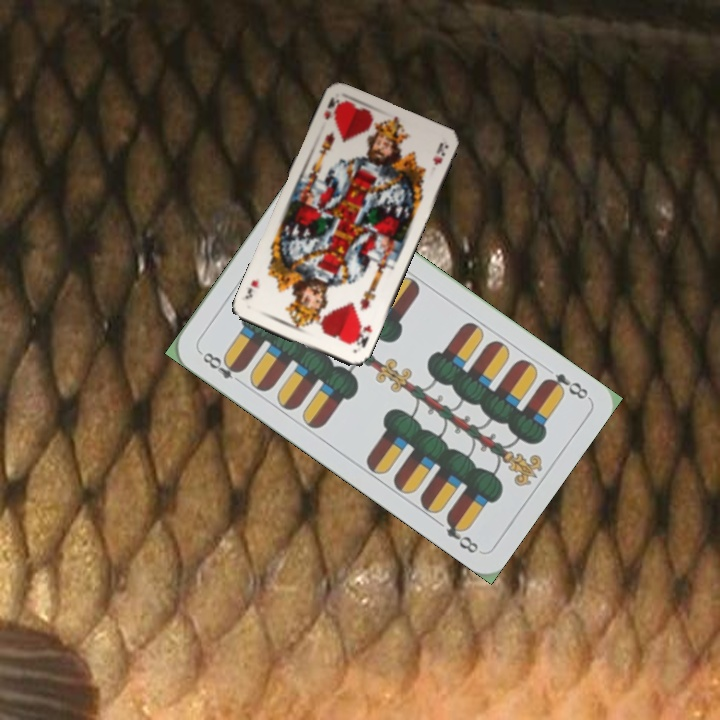E8: (197, 347, 246, 388), (539, 369, 591, 402)
HK: (350, 320, 375, 351), (320, 94, 342, 122)
